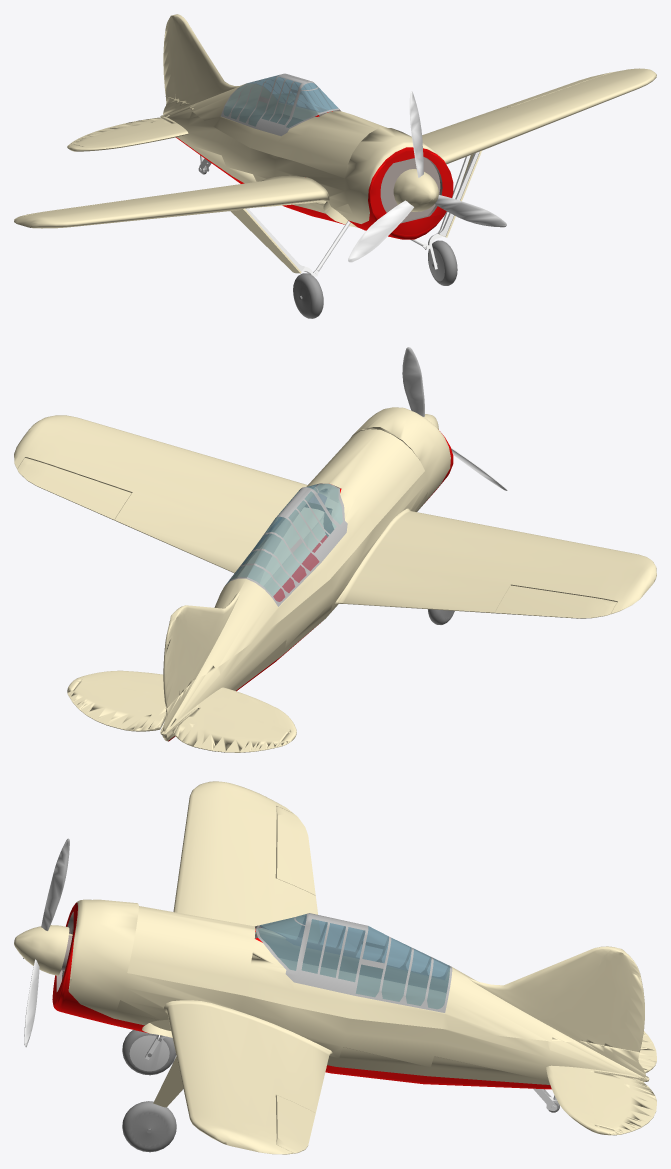
The model's file is AvionGraffiti_Arreglado.fbx.
3 views of the same model, one above another, from view 1: azimuth 30°, elevation 25°; view 2: azimuth 150°, elevation 25°; view 3: azimuth 270°, elevation 25° (orthographic). The views are drawn at different scales.
Parts seen in each view (by area): view 1: Layer0_001, Group_007, Group_001, Group_010, Group_005, Group_003, Group_009; view 2: Layer0_001, Group_001, Group_007, Group_010, Group_009; view 3: Layer0_001, Group_001, Group_007, Group_010, Group_009, Group_003, Group_005.
Part boxes in pixels (bbox=[...]): Layer0_001: bbox=[67, 14, 506, 262]; Group_007: bbox=[14, 175, 329, 228]; Group_001: bbox=[422, 68, 656, 164]; Group_010: bbox=[223, 75, 338, 127]; Group_005: bbox=[230, 208, 350, 318]; Group_003: bbox=[410, 150, 481, 285]; Group_009: bbox=[221, 73, 339, 136]; Layer0_001: bbox=[67, 347, 507, 752]; Group_001: bbox=[14, 415, 329, 585]; Group_007: bbox=[334, 508, 656, 618]; Group_010: bbox=[226, 484, 342, 601]; Group_009: bbox=[225, 483, 347, 606]; Layer0_001: bbox=[14, 838, 656, 1135]; Group_001: bbox=[164, 1000, 332, 1154]; Group_007: bbox=[173, 781, 317, 926]; Group_010: bbox=[258, 914, 449, 1009]; Group_009: bbox=[255, 913, 452, 1012]; Group_003: bbox=[122, 1054, 183, 1152]; Group_005: bbox=[122, 1030, 175, 1075].
Bounding box in the file's own units: 1079 × 388 × 822.
